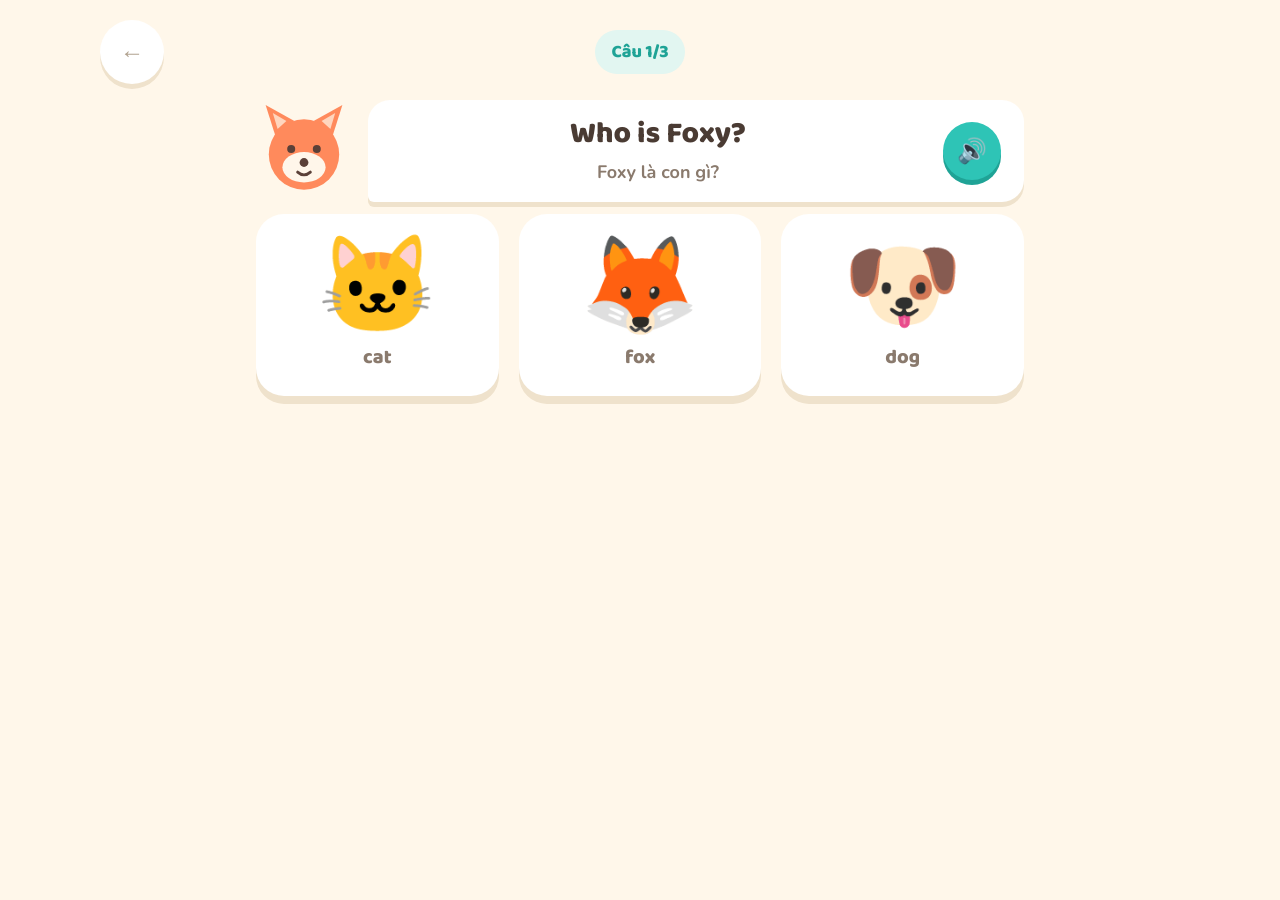
Test: 3 correct keeps the Phase 12 result exactly
This screenshot has width=1280, height=900.
Click the button "🦊 fox".
click(640, 304)  # box [519,214,761,396]
Wait 900 ms
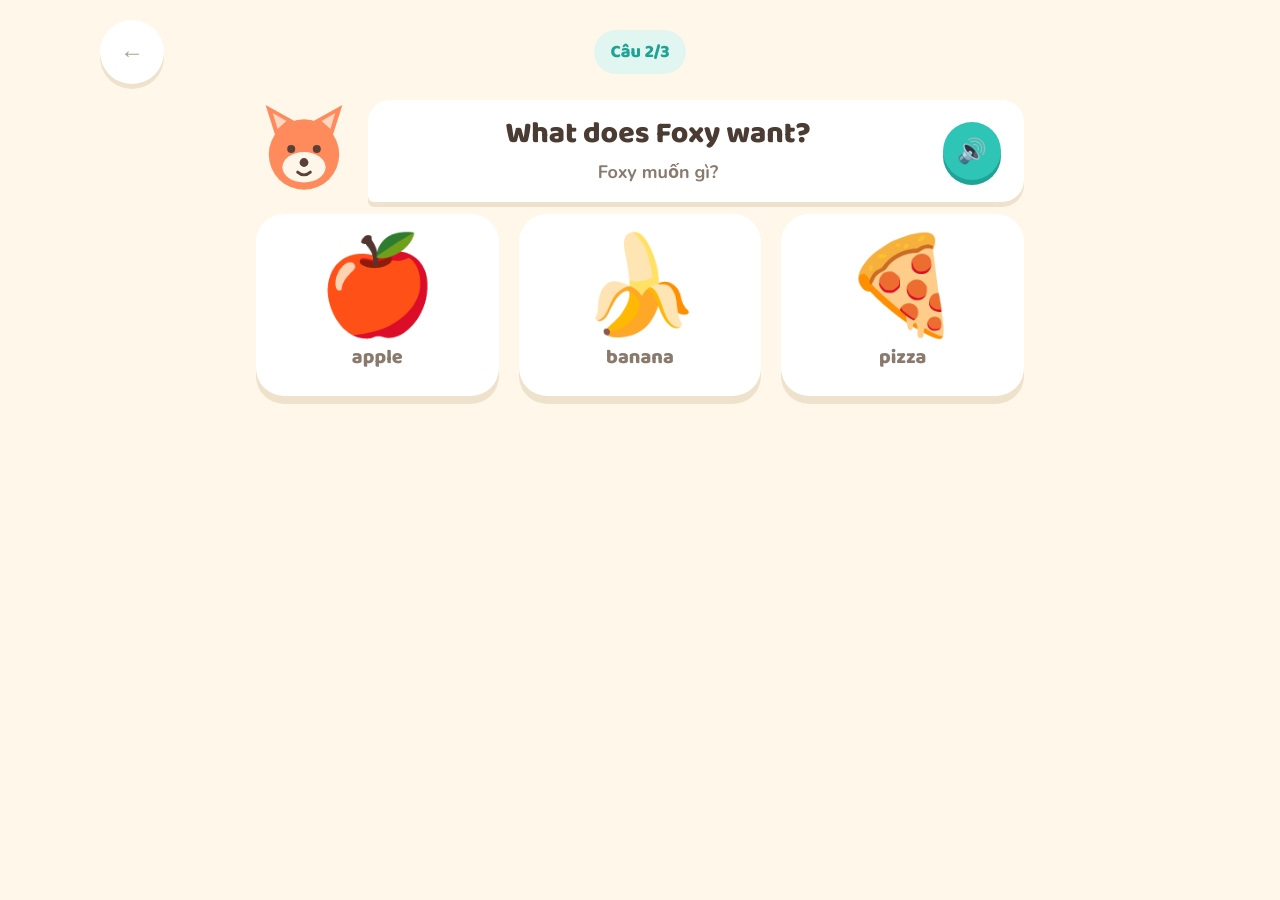
Click the button "🍎 apple".
click(377, 304)  # box [256,214,499,396]
Wait 900 ms
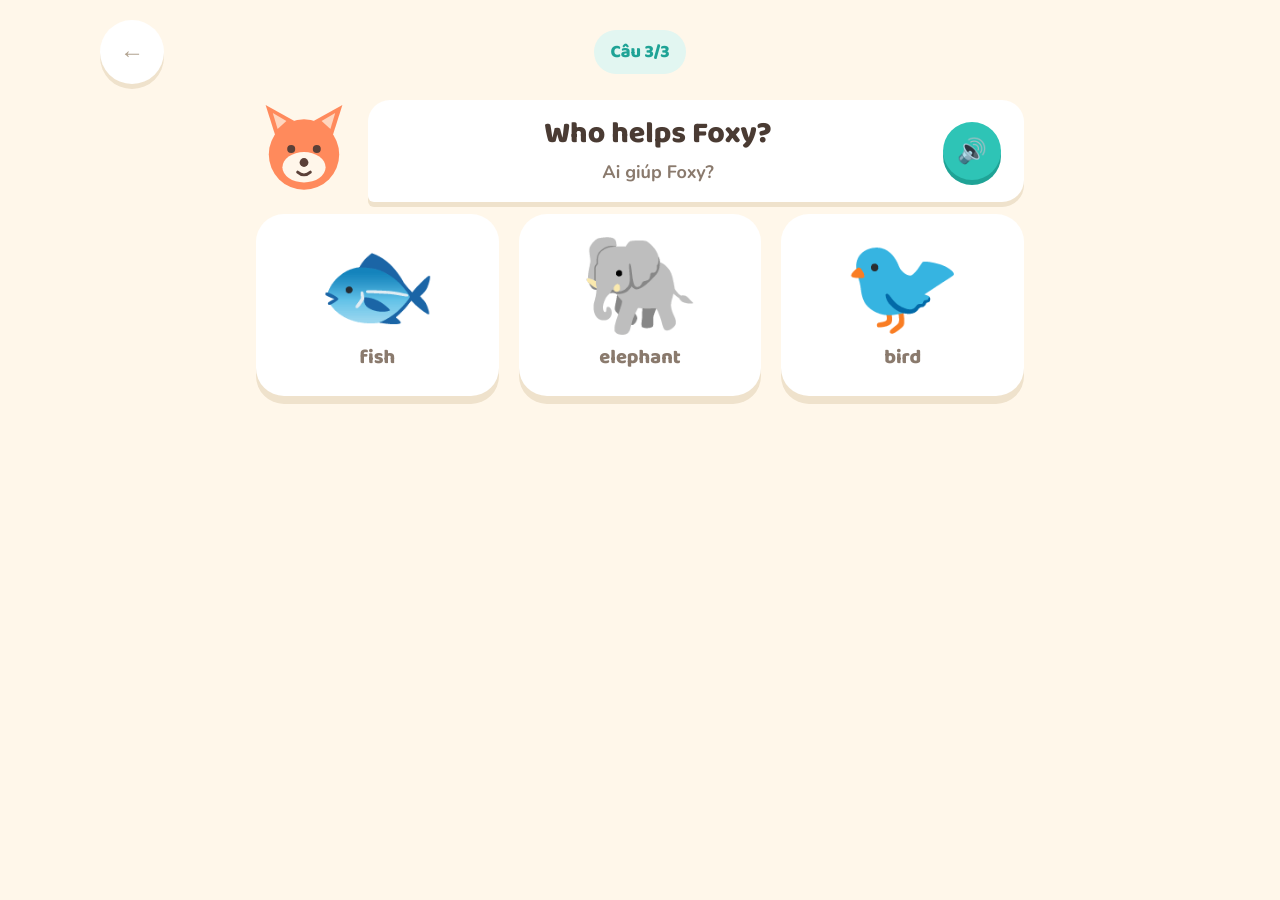
Click the button "🐦 bird".
click(903, 304)  # box [781,214,1024,396]
Wait 900 ms
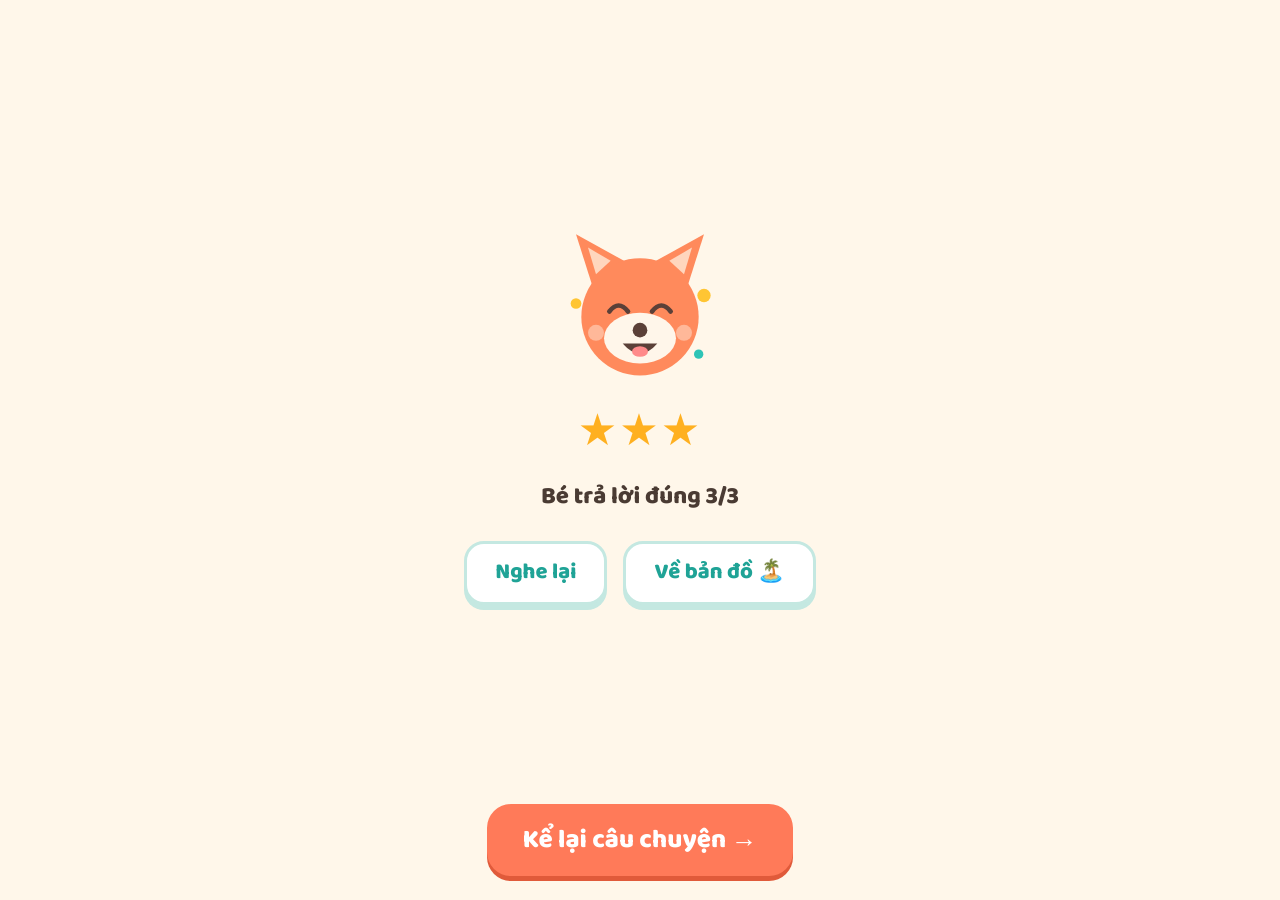
Expected: the link "Kể lại câu chuyện →" is shown, [487,804,793,876]
